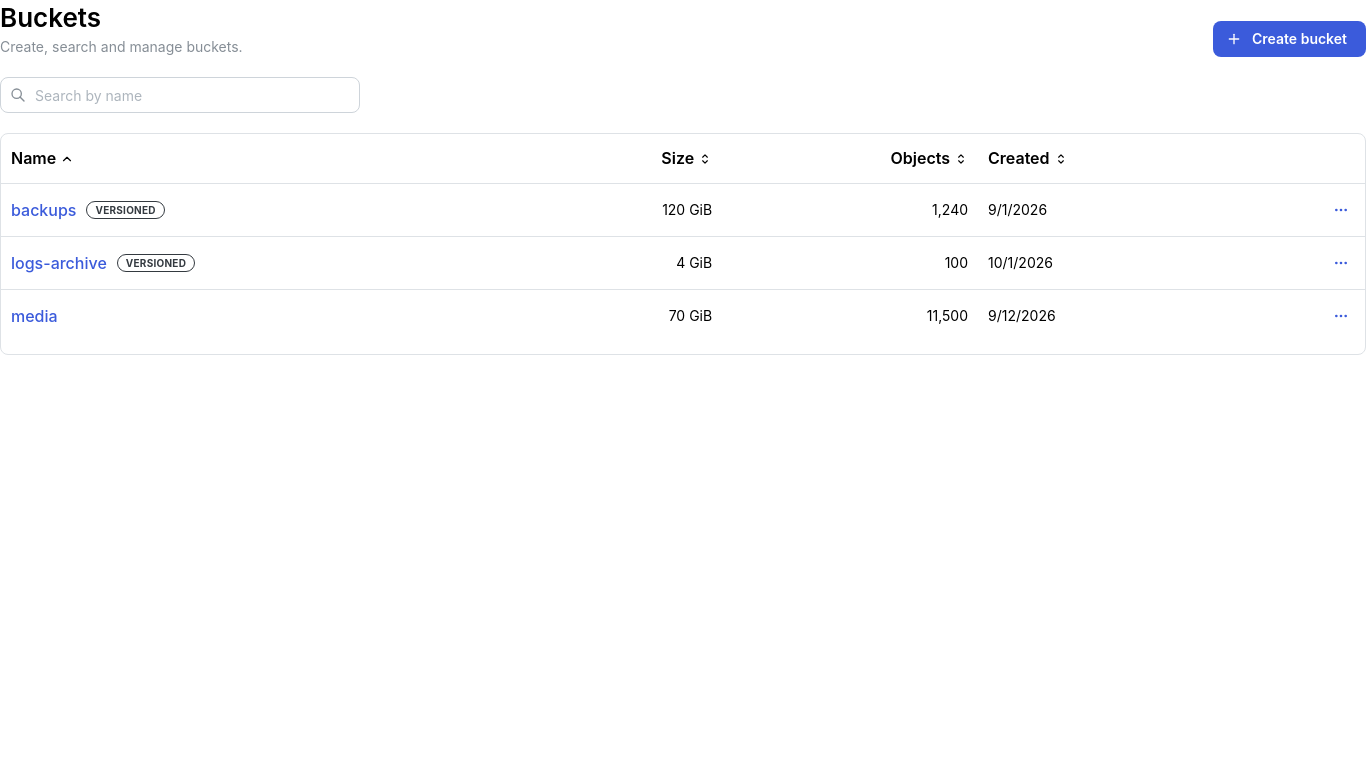
CreateBucketDialog (TD-U-04) › shows BucketAlreadyExists on the name field
Click the button "Create bucket" at (1290, 39), box [1213, 21, 1365, 57]
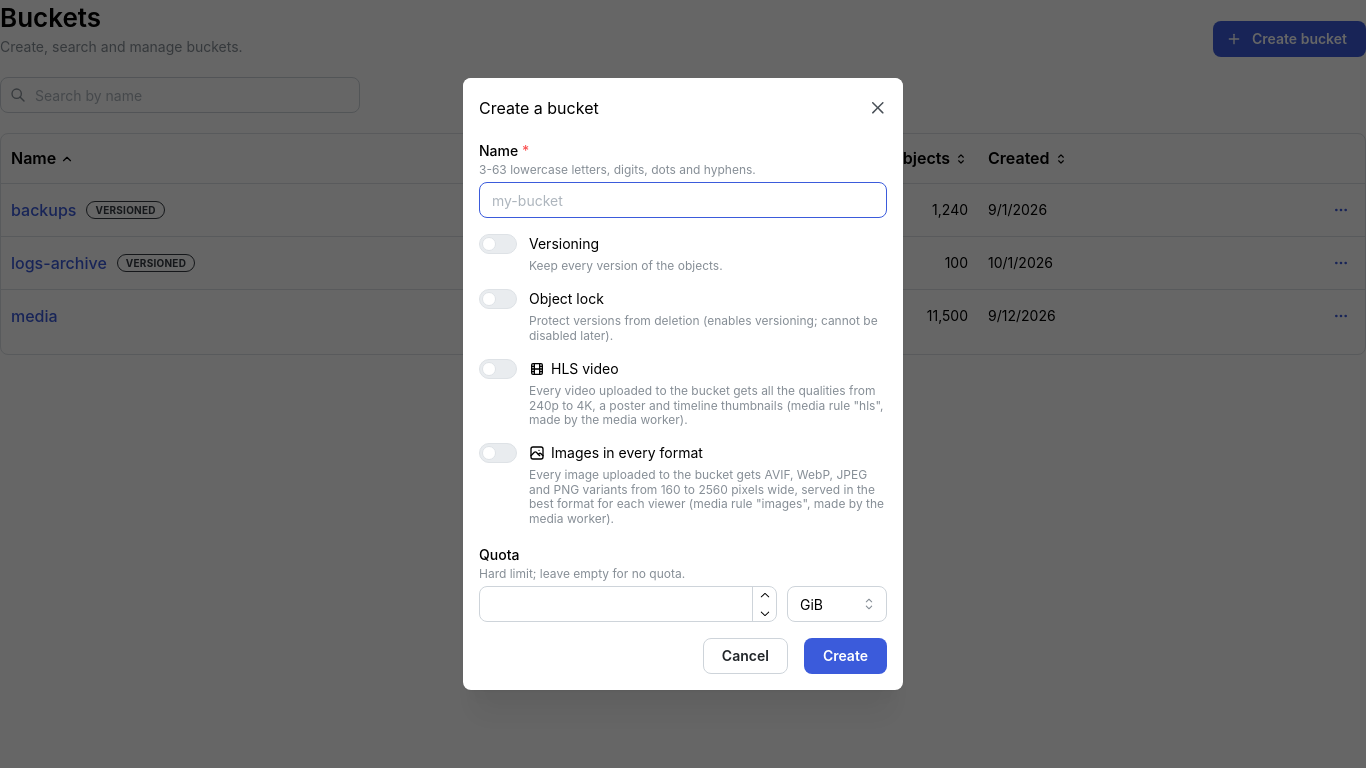
Type "media" into the field labelled "Name *" at (683, 200), box [479, 182, 887, 218]
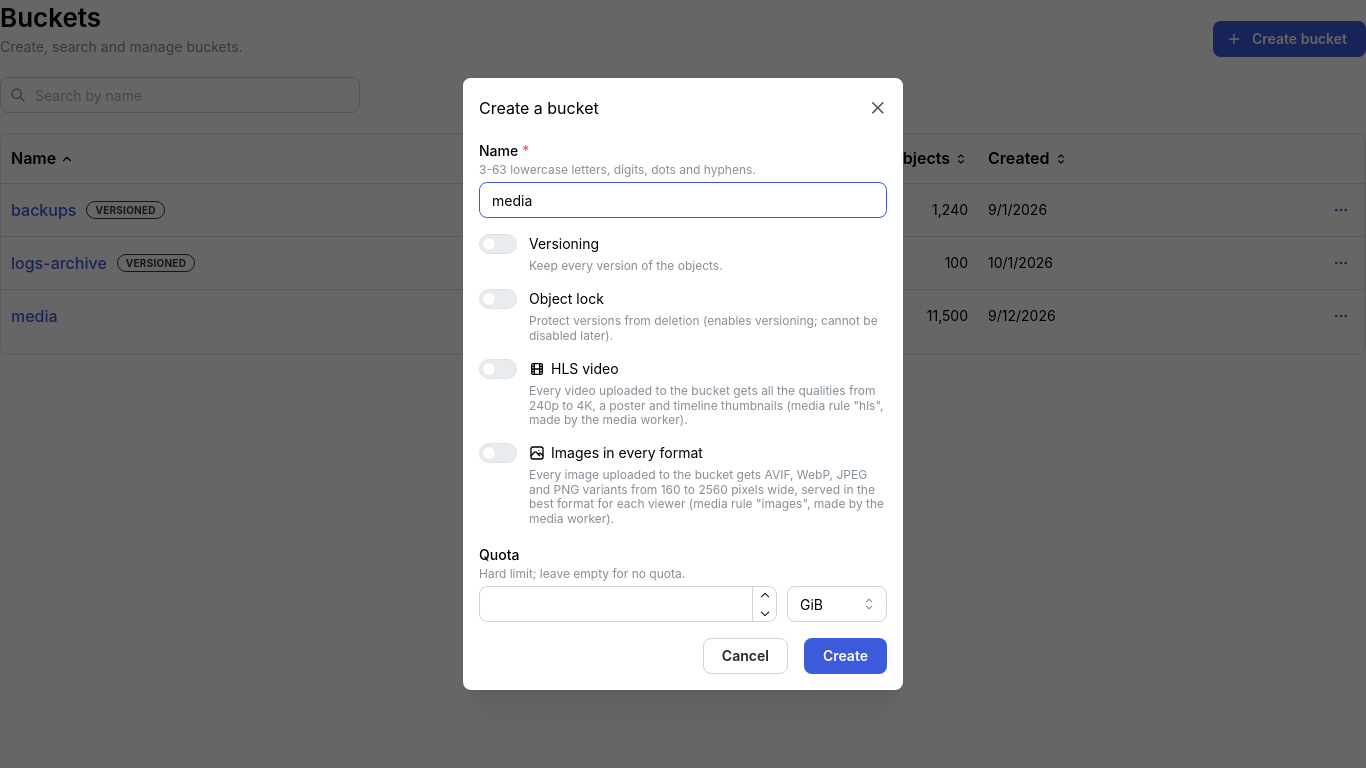
Click the button "Create" at (845, 656), box [804, 638, 887, 674]
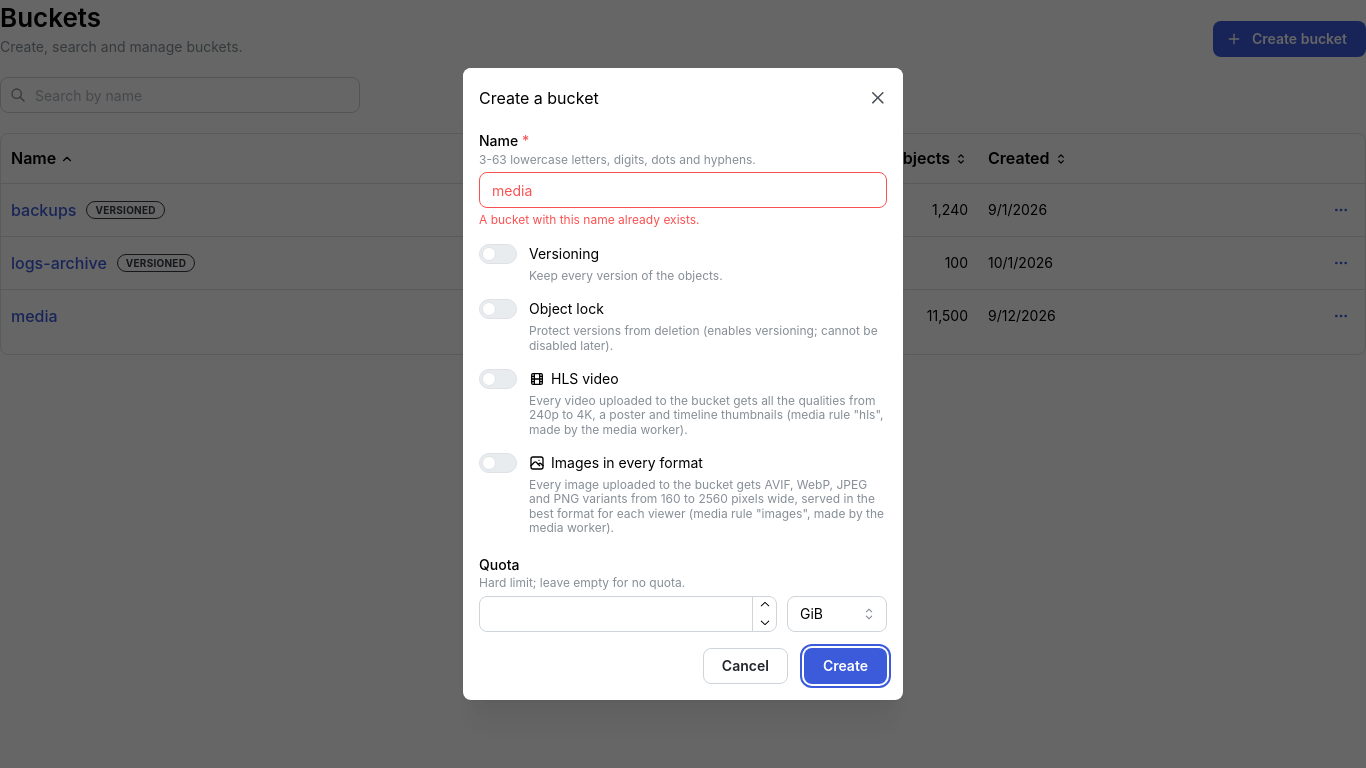
expect the text "A bucket with this name already exists." is shown: met, box [479, 212, 700, 227]
